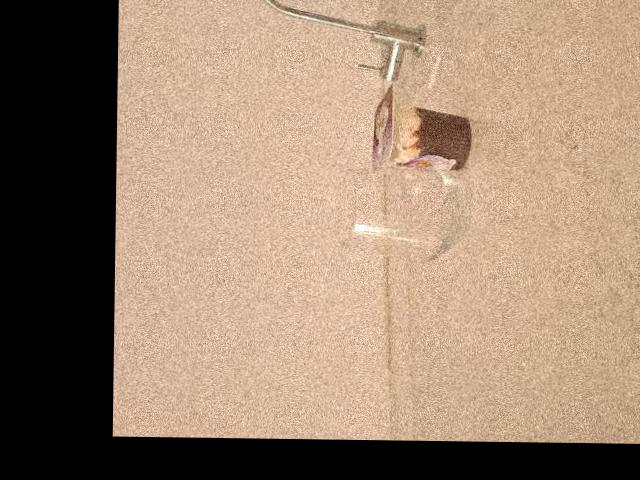milky: (371, 96, 468, 179)
